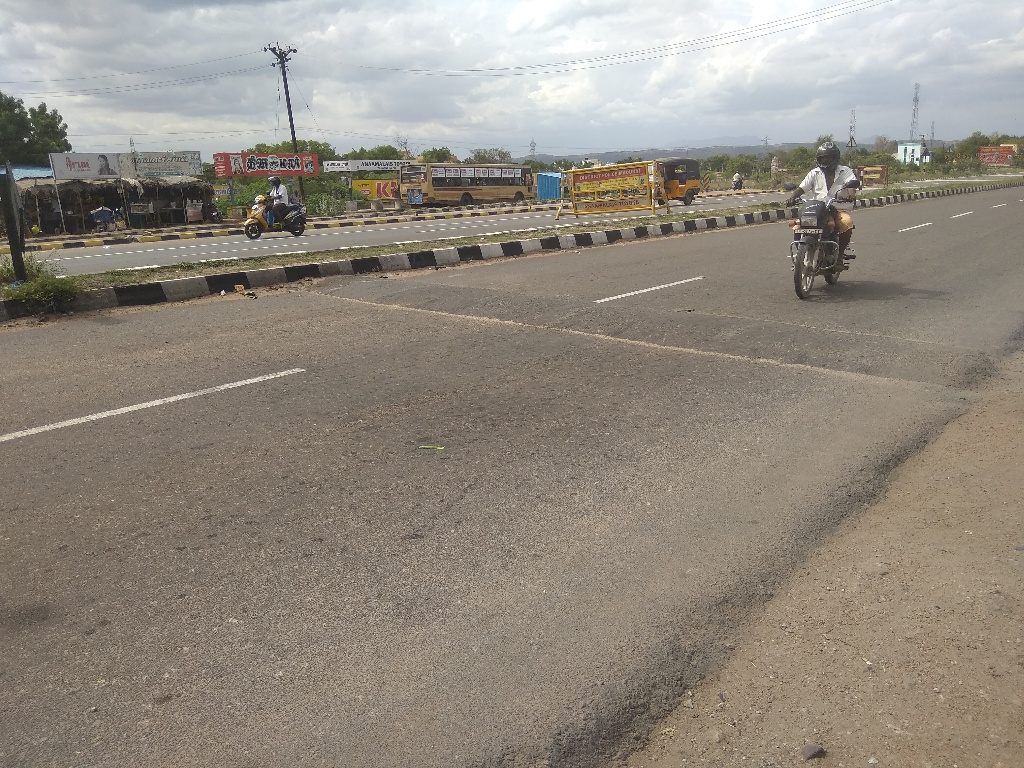biker: (765, 117, 883, 308), (233, 158, 314, 247)
helmet: (807, 130, 851, 181), (260, 167, 287, 197)
